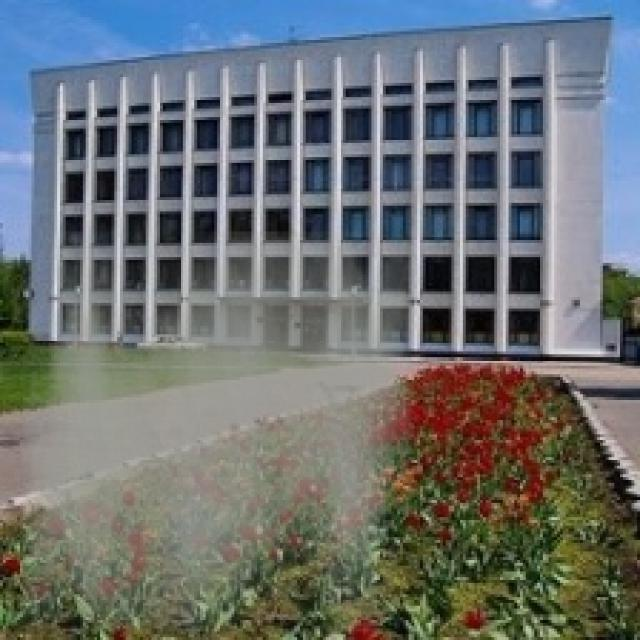Smoke: (22, 232, 414, 632)
